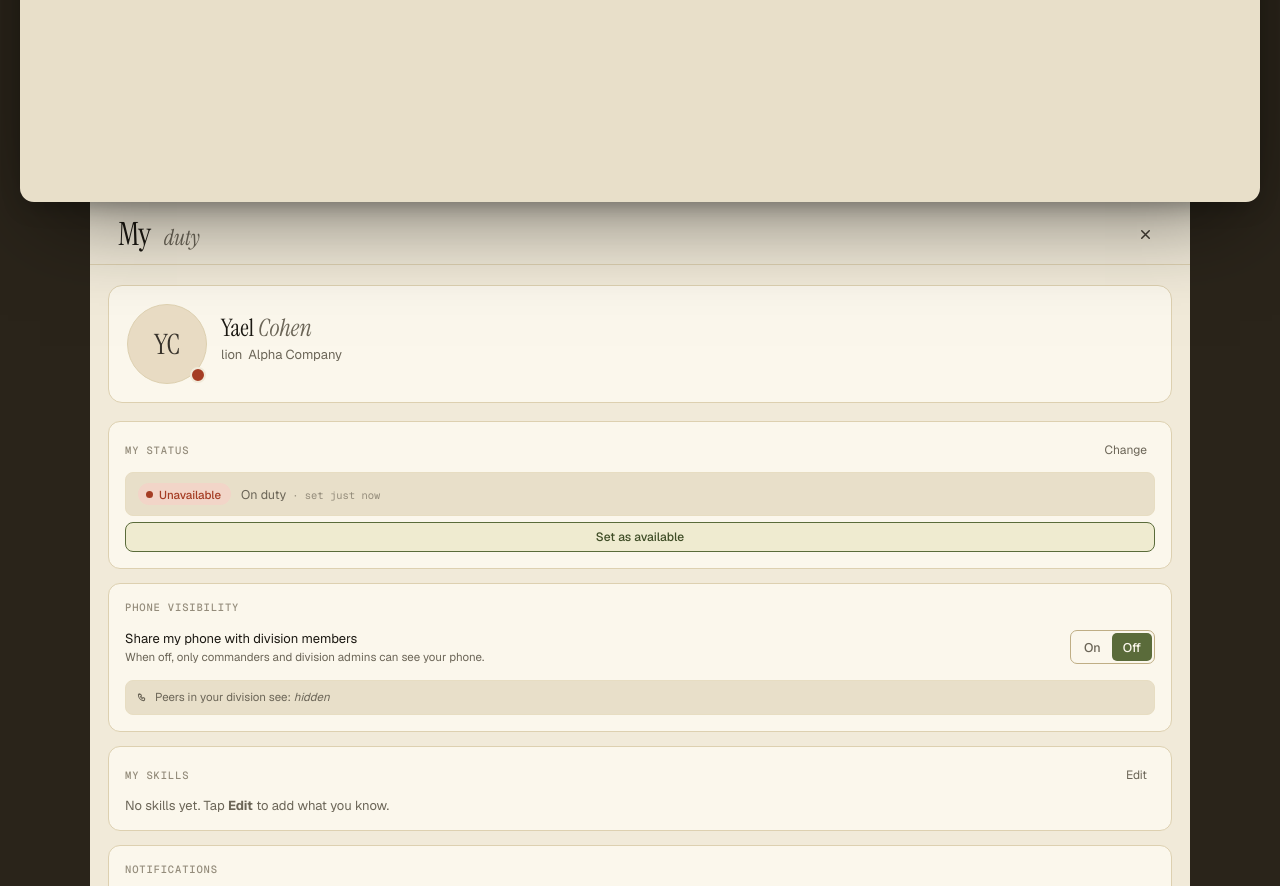
Test case: ReservistDashboard › clicking a preset chip writes the corresponding YYYY-MM-DD into the date input
(page scrolled)
What coordinates should you click on to do the following:
click the button "Change"
I would click on:
 (1126, 450)
Its box is [1096,438,1155,462].
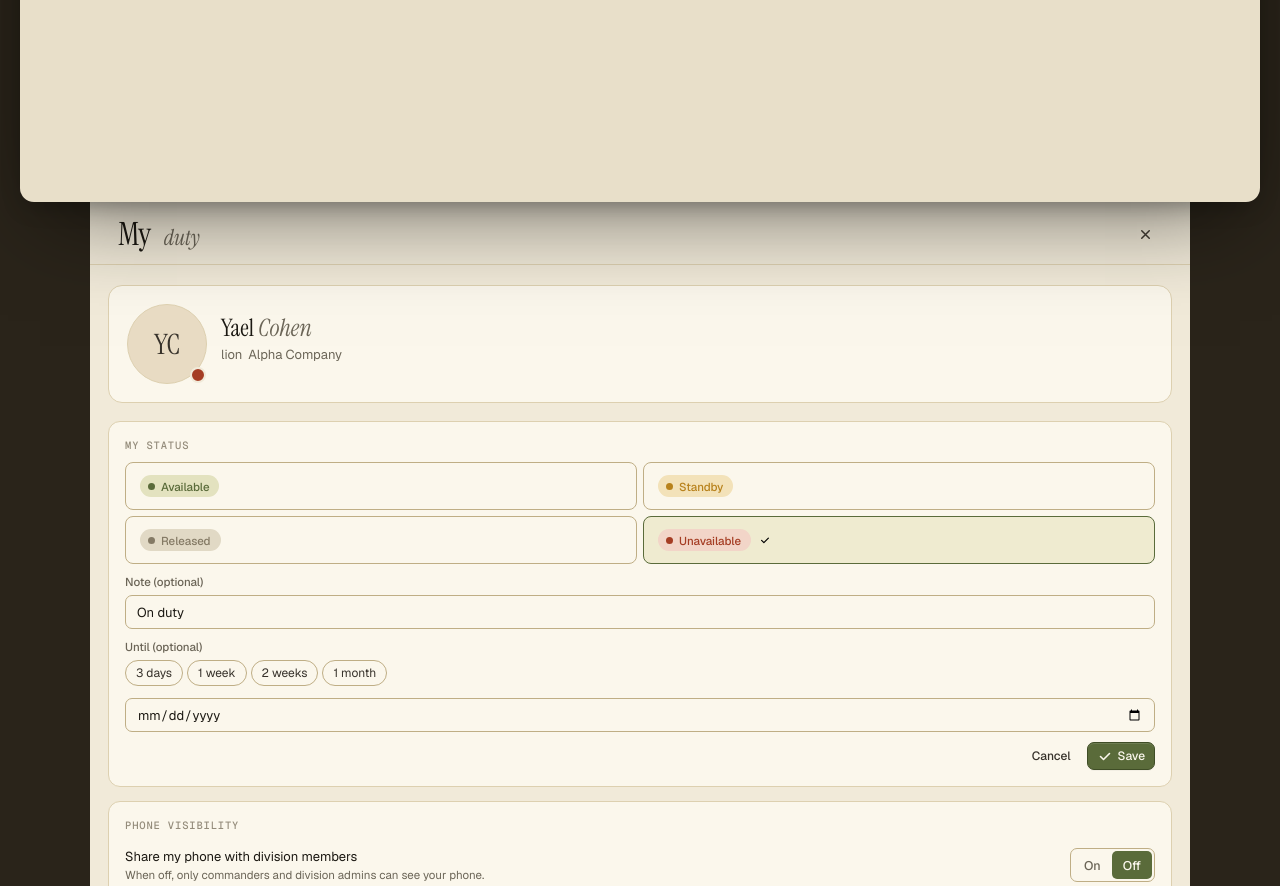
What coordinates should you click on to do the following:
click the button "1 week"
I would click on:
 (217, 673)
Its box is [187,660,246,686].
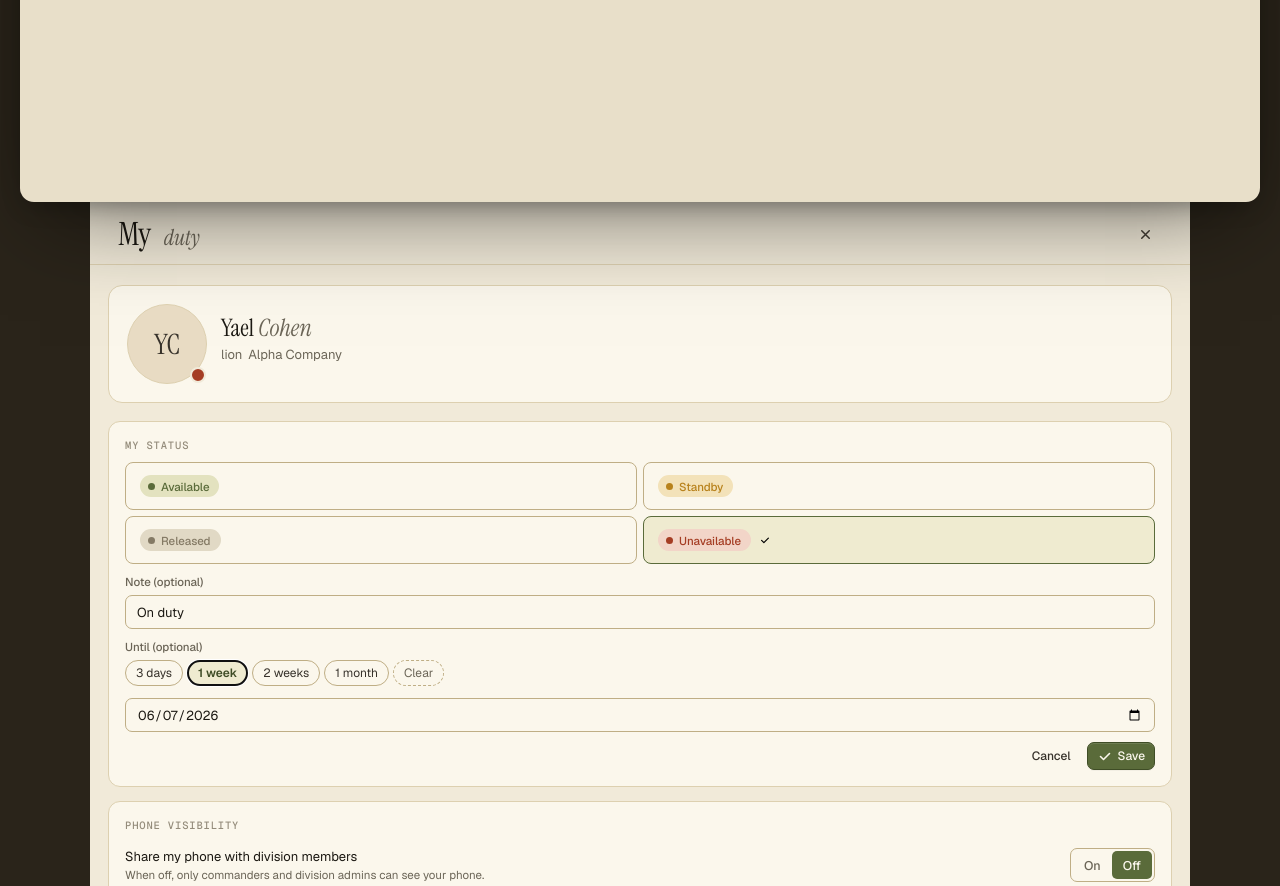
Expected: the date field holds "2026-06-07", [125,698,1155,732]
